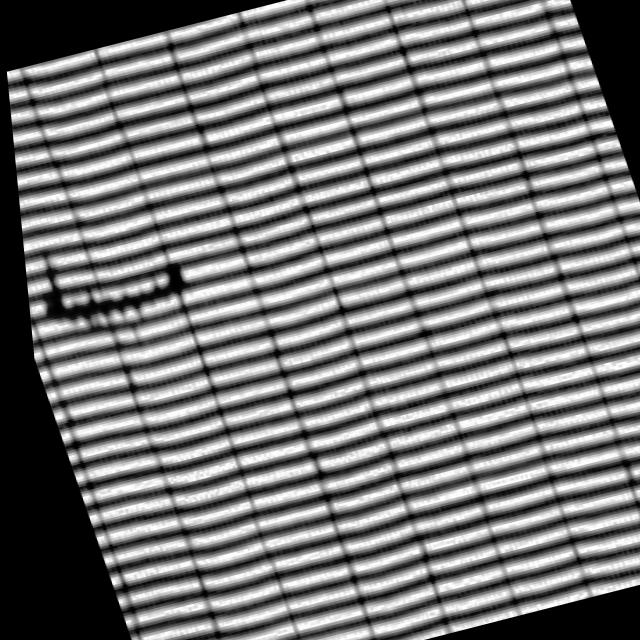Stitch: (21, 225, 202, 358)
